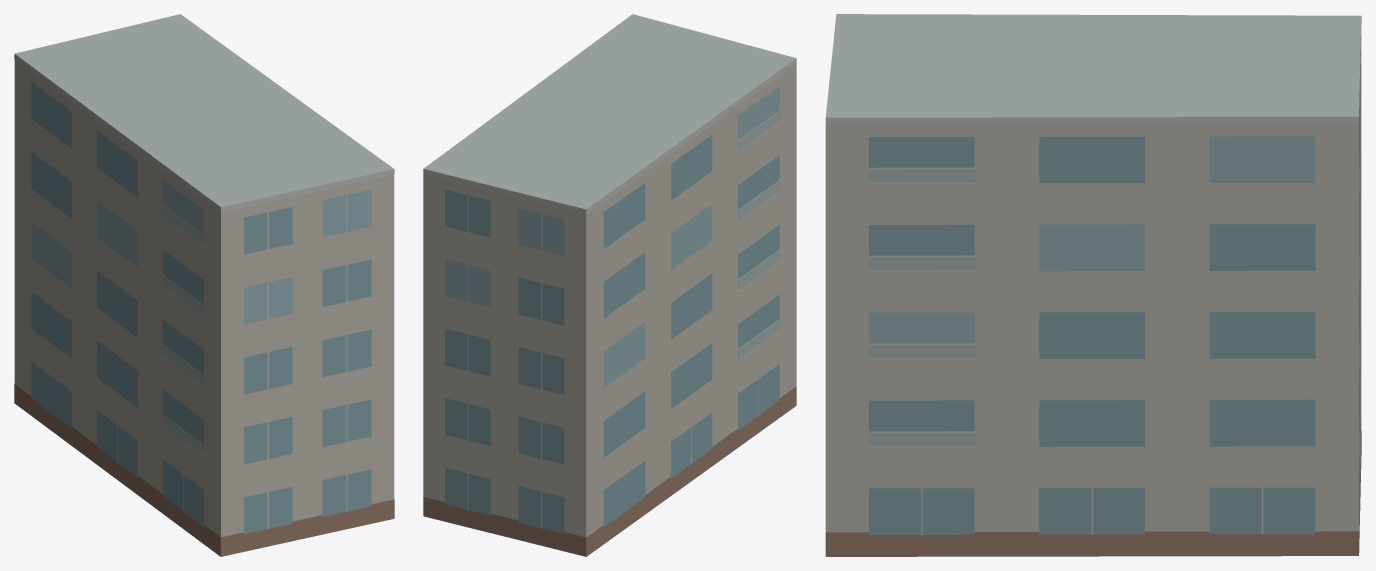
File: survey-upis-32873202.glb
The picture shows the model from 3 angles, left to right: view 1: azimuth 30°, elevation 25°; view 2: azimuth 150°, elevation 25°; view 3: azimuth 270°, elevation 25°; orthographic projection. The views are drawn at different scales.
Parts seen in each view (by area): view 1: survey-upis-32873202.tmp; view 2: survey-upis-32873202.tmp; view 3: survey-upis-32873202.tmp.
Part boxes in pixels (<box>): survey-upis-32873202.tmp: <box>14,14,394,556</box>; survey-upis-32873202.tmp: <box>423,14,796,556</box>; survey-upis-32873202.tmp: <box>825,14,1361,556</box>.
Bounding box in the file's own units: 7.79 × 15.25 × 16.87.
